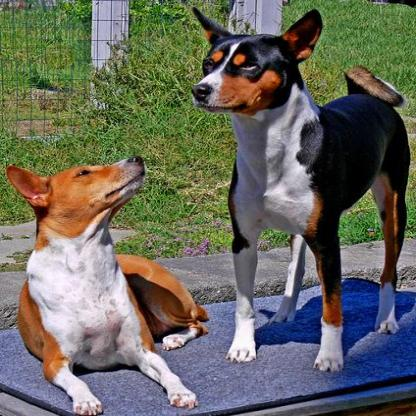basenji: (186, 4, 406, 368), (4, 152, 208, 414)
